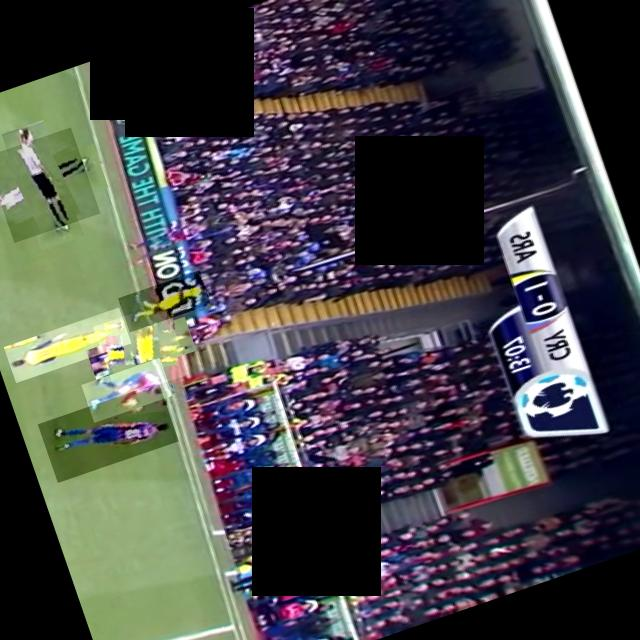referee: (0, 127, 99, 243)
soccer-player: (36, 382, 178, 482), (2, 307, 130, 383), (92, 302, 188, 398), (80, 358, 172, 422), (117, 270, 210, 332)
